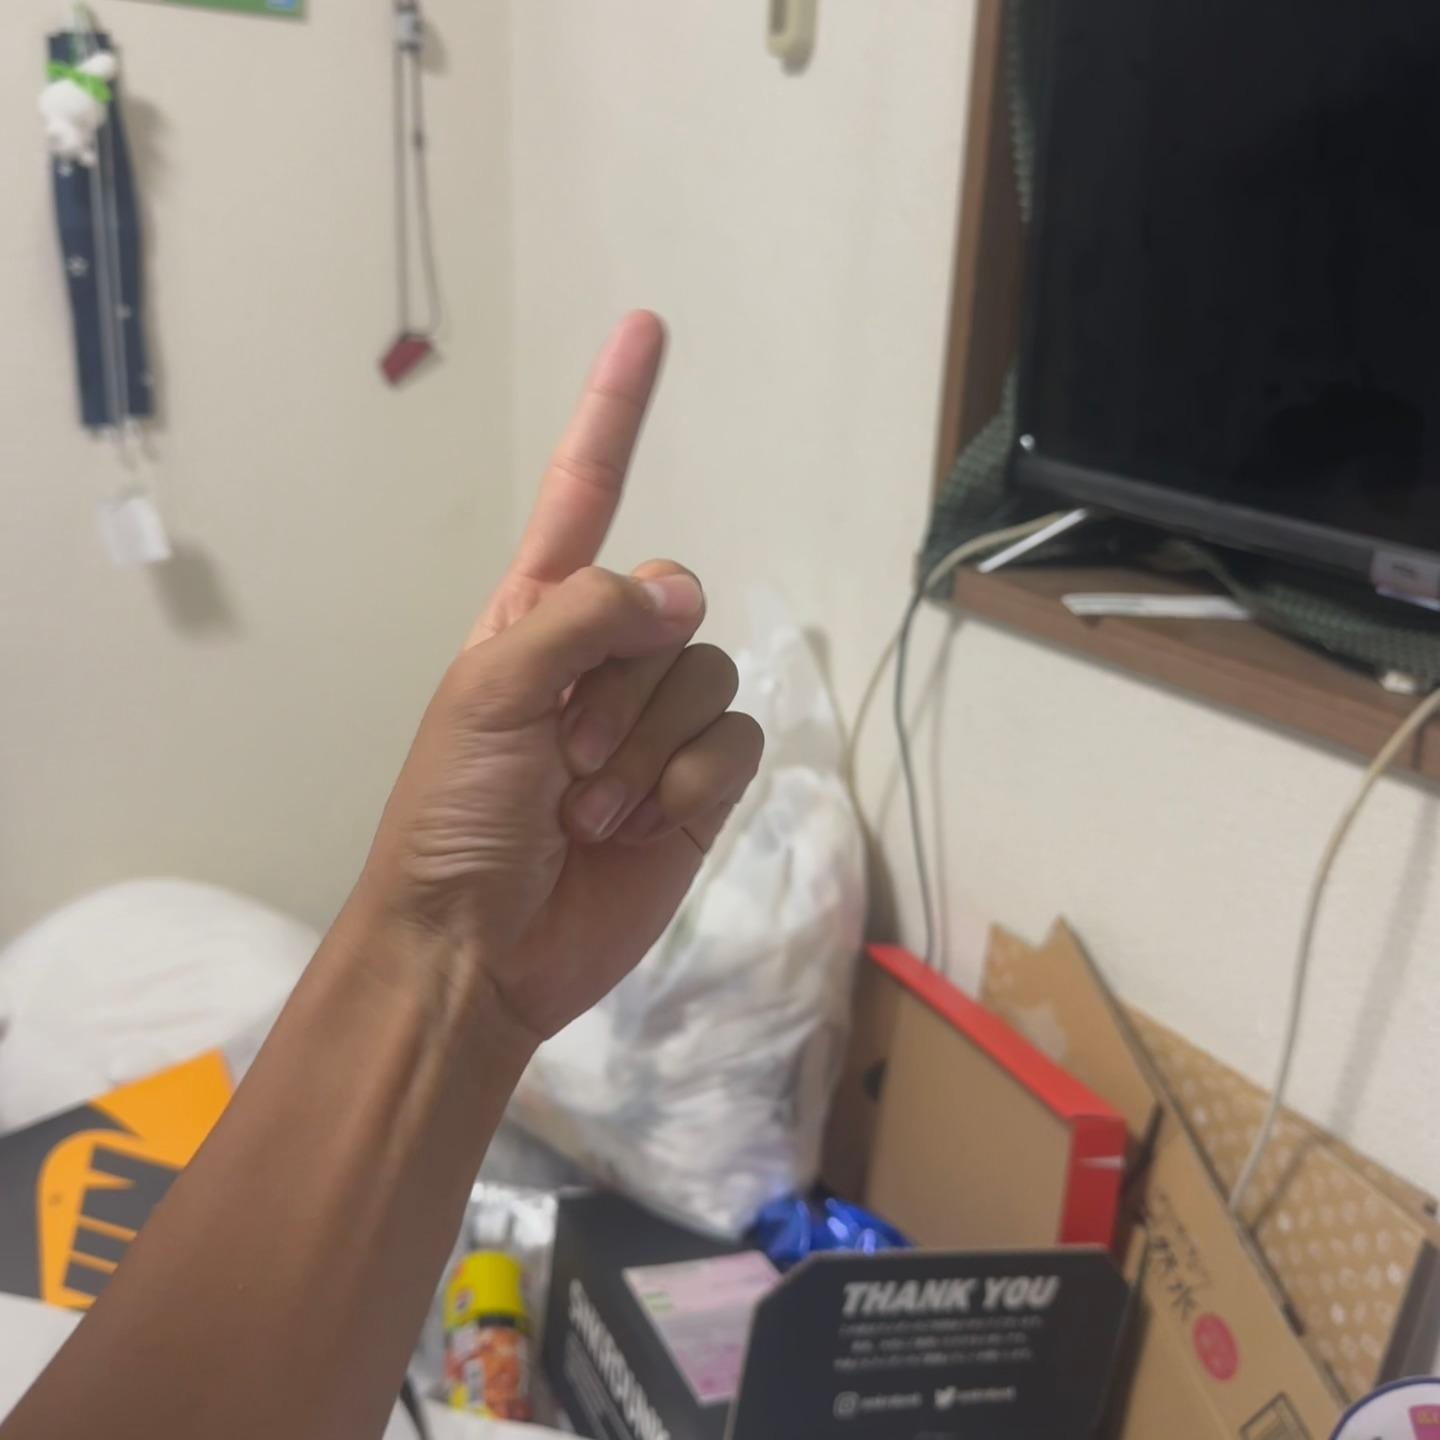without_gloves: (285, 220, 872, 1271)
